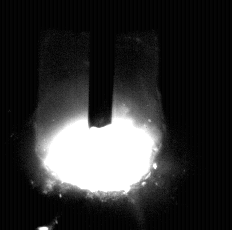arame: (89, 0, 113, 128)
poca: (33, 0, 163, 230)
